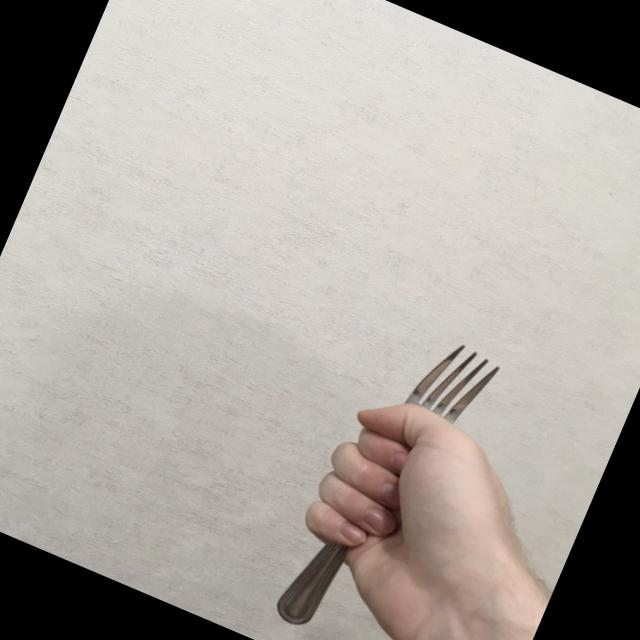fork: (266, 316, 507, 640)
